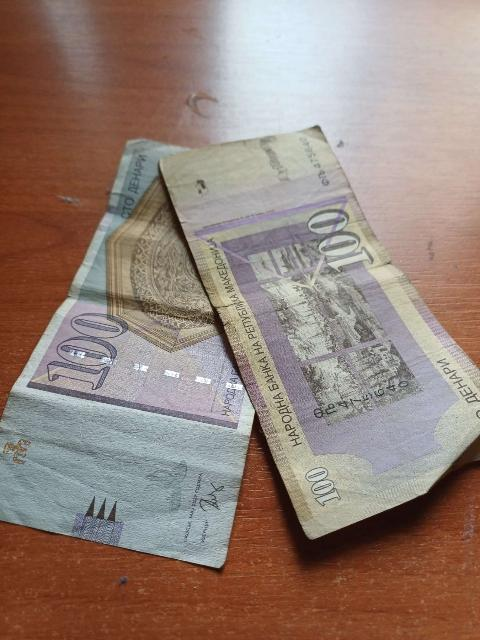100_note: (161, 128, 479, 538), (0, 140, 253, 566)
